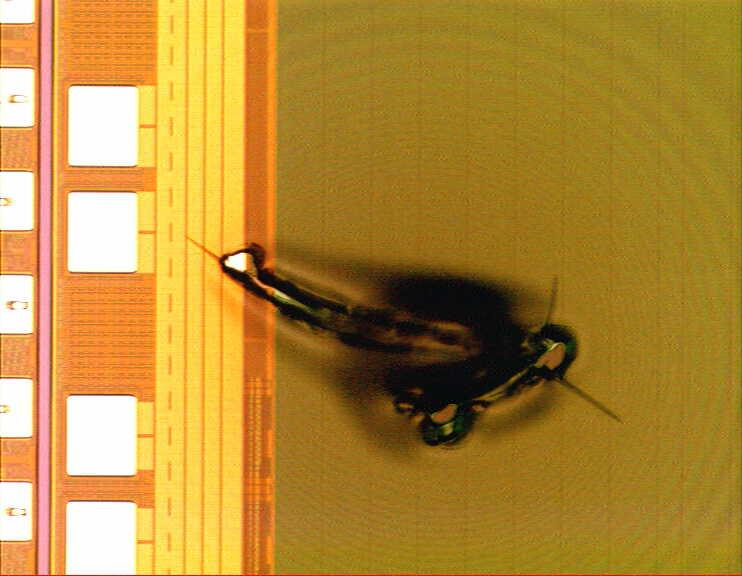PIQ PARTICLE: (183, 232, 632, 472)
